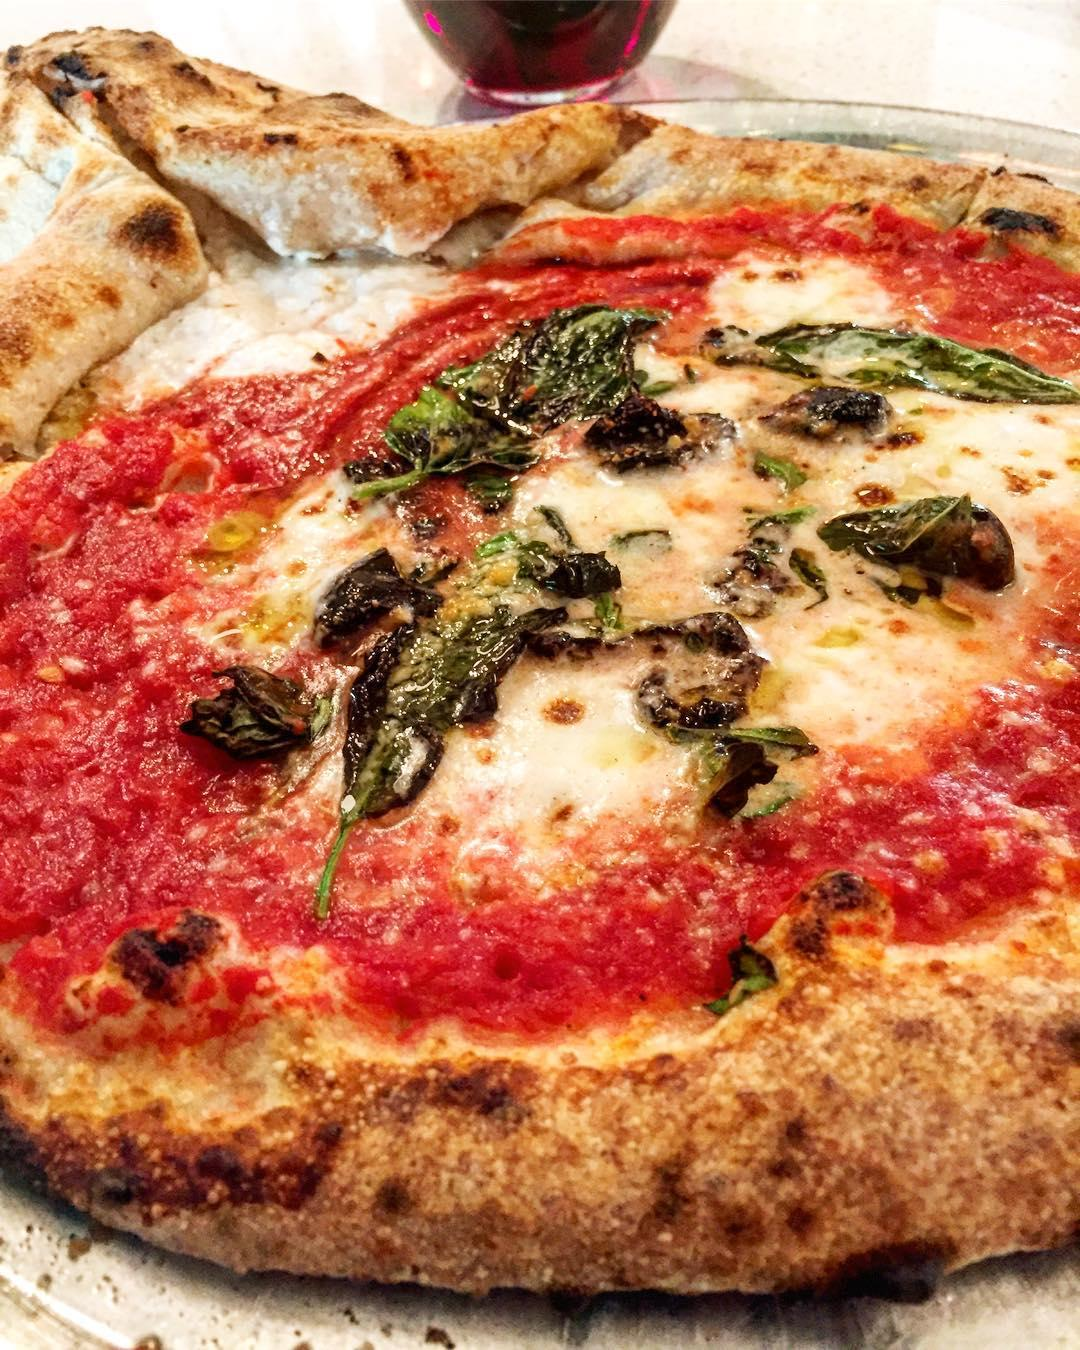Basil: (337, 608, 519, 821), (354, 315, 527, 499), (724, 322, 1080, 406), (528, 302, 661, 449)
Pizza: (0, 126, 1080, 1286)
